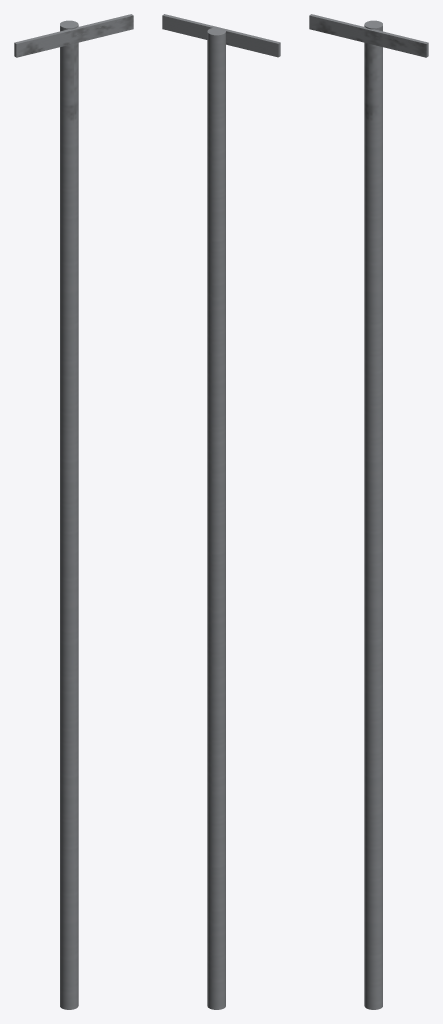
File: Post signs.fbx
3 renders of one model, left to right at view 1: azimuth 30°, elevation 25°; view 2: azimuth 150°, elevation 25°; view 3: azimuth 330°, elevation 25°, orthographic.
Parts seen in each view (by area): view 1: Cylinder; view 2: Cylinder; view 3: Cylinder.
Part boxes in pixels (x1=…): Cylinder: x1=14, y1=14, x2=133, y2=1009; Cylinder: x1=162, y1=14, x2=280, y2=1009; Cylinder: x1=309, y1=14, x2=428, y2=1009.
Size of the model in its own units: 30.41 by 243 by 4.73.
